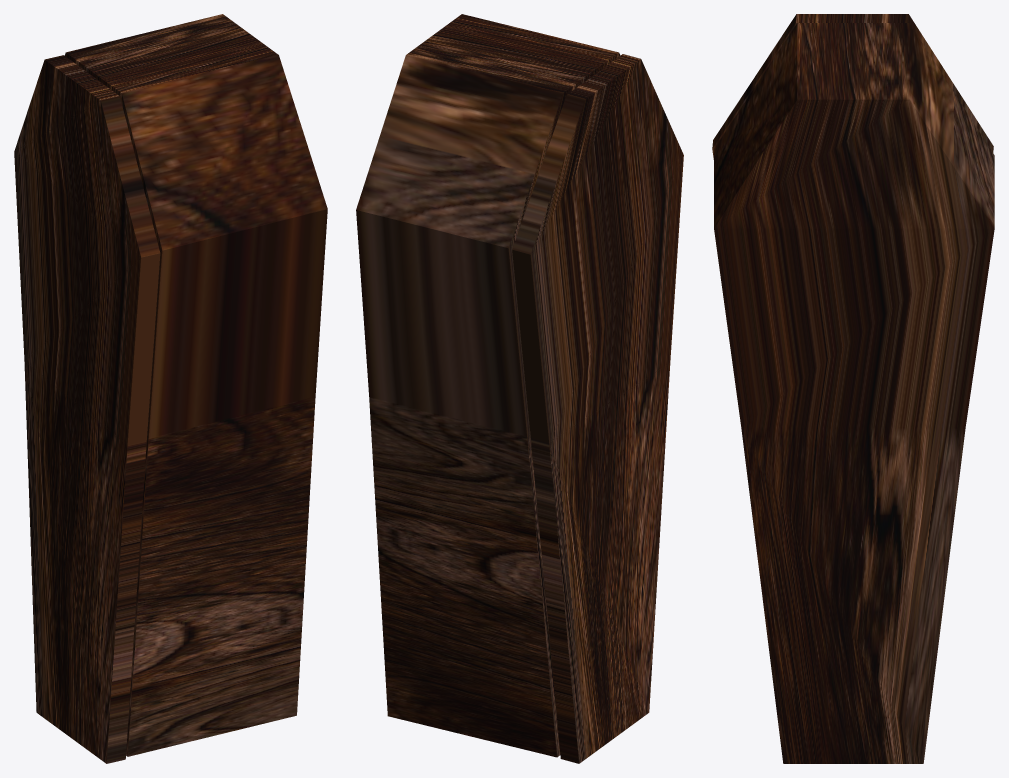
The model's file is Closed_Coffin .glb.
3 views of the same model, side by side, from view 1: azimuth 30°, elevation 25°; view 2: azimuth 150°, elevation 25°; view 3: azimuth 270°, elevation 25° (orthographic).
Parts seen in each view (by area): view 1: Coffin_Closed, Coffin_Open With Door.002; view 2: Coffin_Closed, Coffin_Open With Door.002; view 3: Coffin_Closed, Coffin_Open With Door.002.
Boxes of the visible parts, x1,y1,x2,y2 form: Coffin_Closed: (64, 14, 327, 756); Coffin_Open With Door.002: (14, 55, 160, 763); Coffin_Closed: (356, 14, 620, 757); Coffin_Open With Door.002: (512, 54, 683, 763); Coffin_Closed: (714, 23, 994, 763); Coffin_Open With Door.002: (712, 14, 993, 159).
Size of the model in its own units: 1.57 by 5.19 by 2.01.
Materials: 1 (1 with a texture image).
